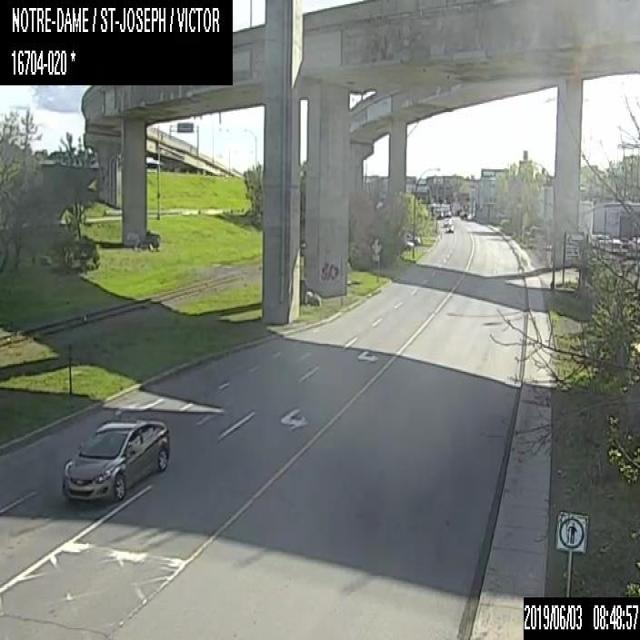vehicle: (63, 418, 168, 502), (445, 224, 453, 232), (443, 217, 451, 224)
